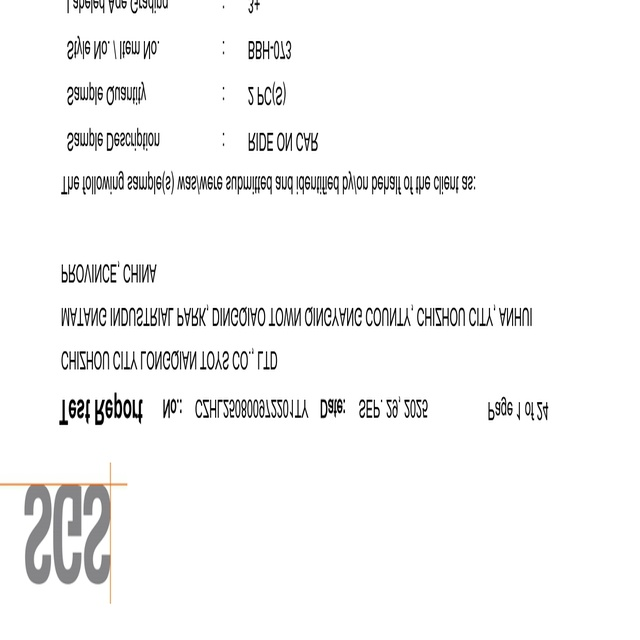sgs: (22, 482, 112, 584)
